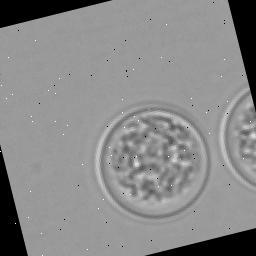picoshell: (93, 101, 209, 221), (218, 88, 256, 190)
